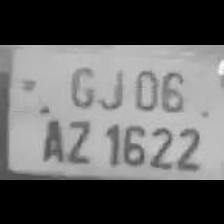0: (128, 62, 158, 112)
1: (95, 116, 119, 166)
2: (172, 121, 202, 171), (146, 119, 174, 169)
6: (157, 64, 187, 112), (119, 118, 146, 166)
A: (36, 111, 64, 164)
G: (64, 60, 96, 108)
J: (95, 60, 125, 110)
Z: (61, 112, 94, 164)
